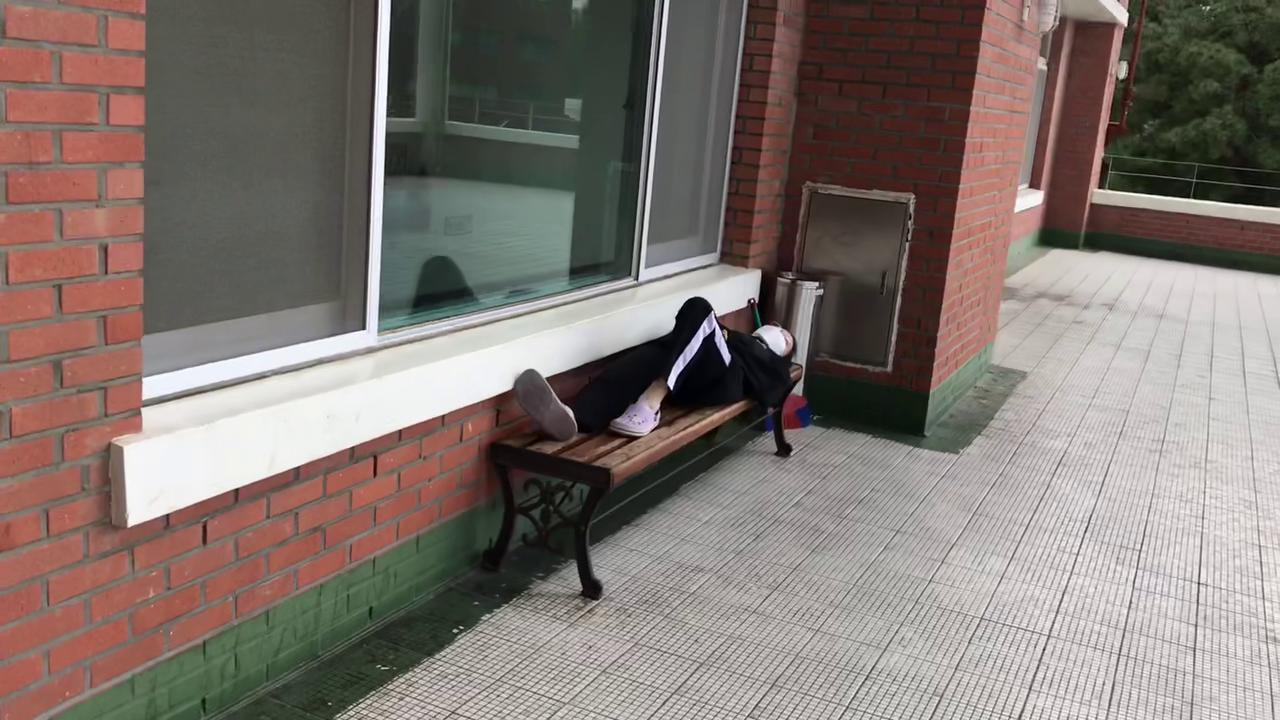sleep: (508, 290, 807, 443)
